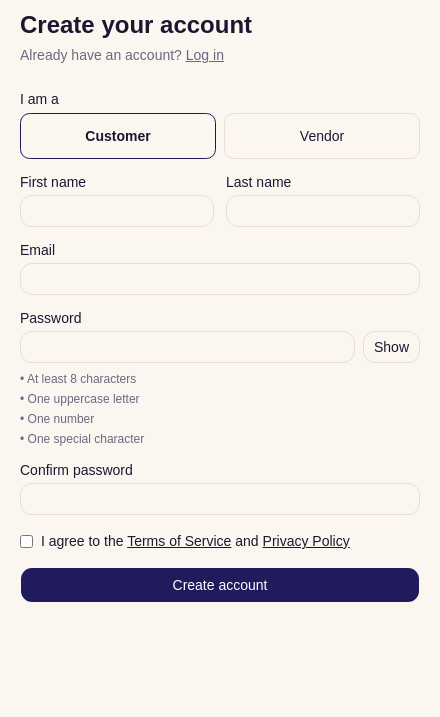
Test: SignupPage › offers Log in and Resend code when the email is already registered
The width and height of the screenshot is (440, 717).
Type "Ada" into the field labelled "First name" at (117, 211), box [20, 195, 214, 227]
Type "Obi" into the field labelled "Last name" at (323, 211), box [226, 195, 420, 227]
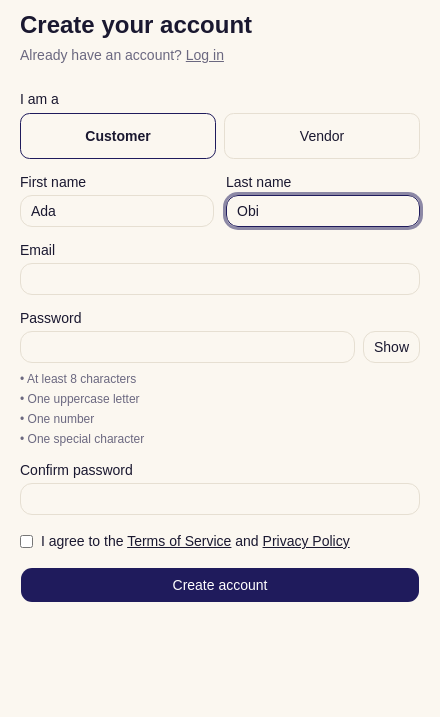
Type "Ada@Example.com" into the field labelled "Email" at (220, 279), box [20, 263, 420, 295]
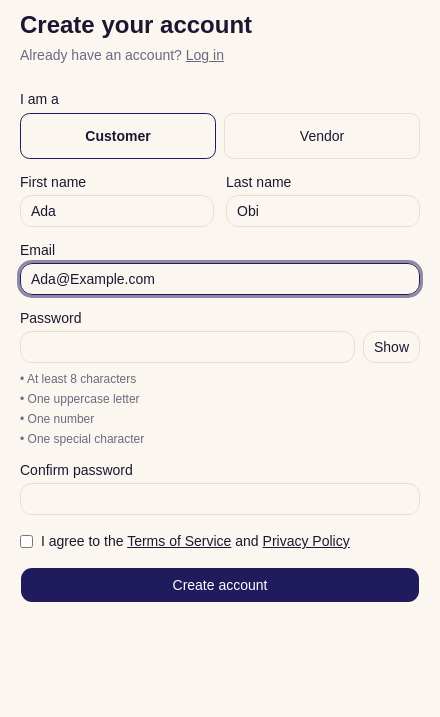
Type "Passw0rd!" into the password field labelled "Password" at (188, 347), box [20, 331, 355, 363]
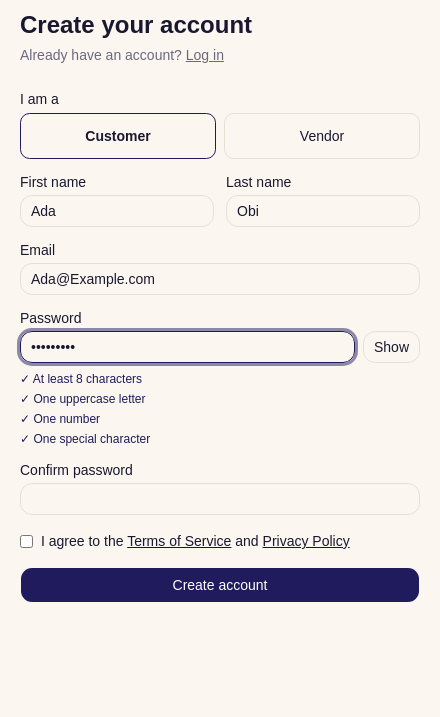
Type "Passw0rd!" into the password field labelled "Confirm password" at (220, 499), box [20, 483, 420, 515]
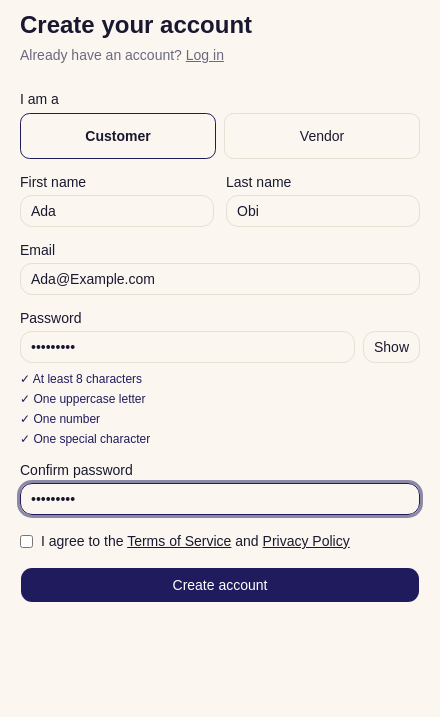
Click the checkbox labelled "I agree to the Terms of Service and Privacy Policy" at (26, 542), box [20, 535, 33, 548]
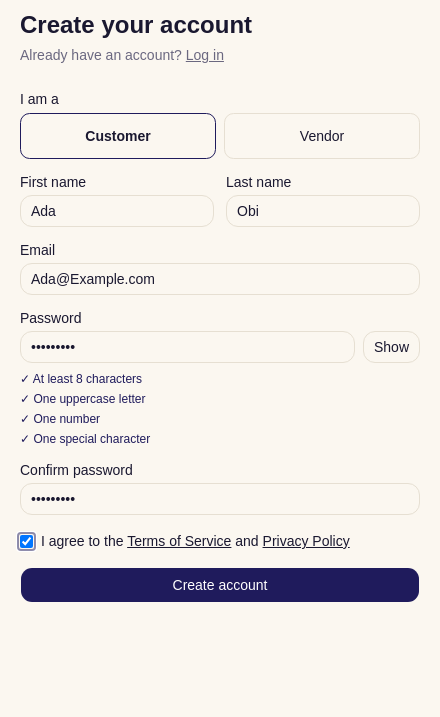
Click the button "Create account" at (220, 585), box [20, 567, 420, 603]
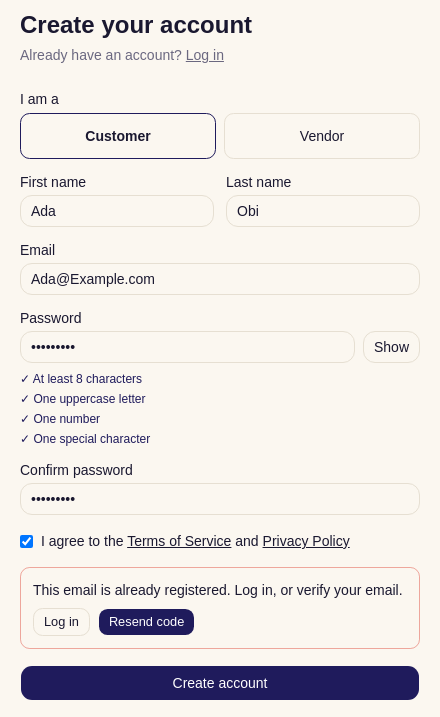
Expected: the text "already registered" is shown, [33, 582, 403, 598]
Expected: the link "Log in" below "I agree to the" is shown, [33, 608, 90, 636]
Expected: the button "Resend code" is shown, [98, 608, 195, 636]
